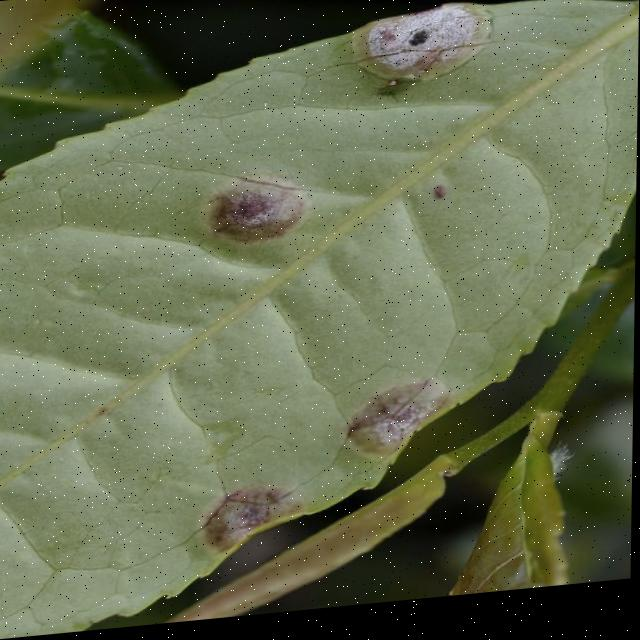Tea cake: (344, 0, 495, 97), (337, 381, 449, 474), (193, 490, 297, 565), (198, 180, 297, 253)
